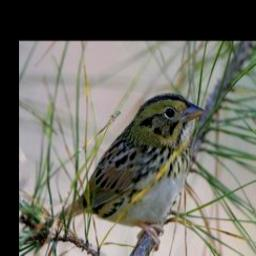Sparrow: (40, 90, 207, 250)
